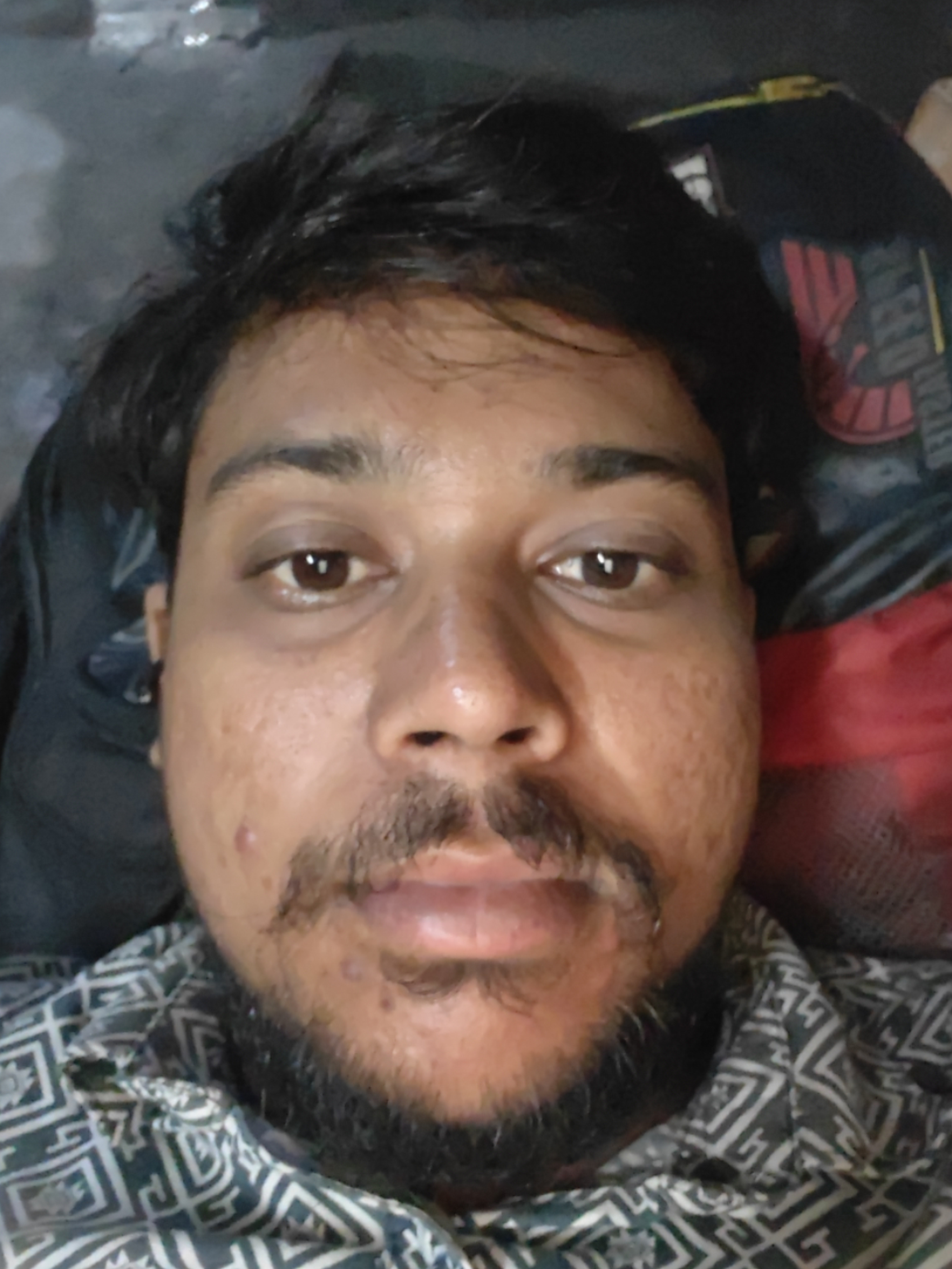nodule: (223, 817, 264, 854)
